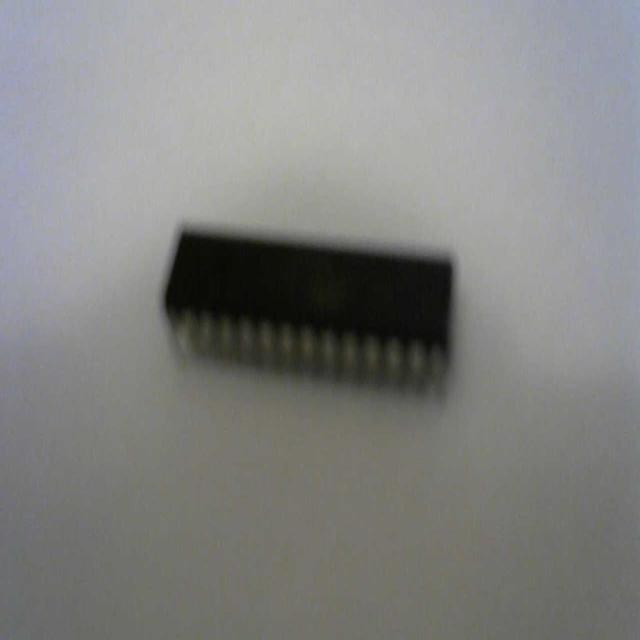atmega: (161, 218, 457, 402)
